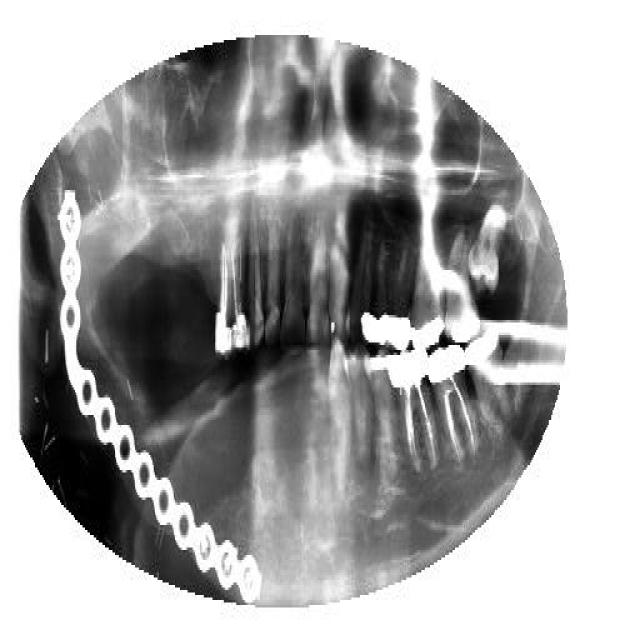Fillings: (468, 328, 512, 430), (442, 230, 478, 342), (408, 250, 444, 352), (370, 352, 398, 450), (384, 310, 408, 352), (361, 305, 385, 345)
Impacted Tooth: (466, 202, 505, 292)
Implant: (392, 345, 438, 470), (428, 345, 473, 463), (228, 238, 248, 352), (214, 238, 232, 362)
